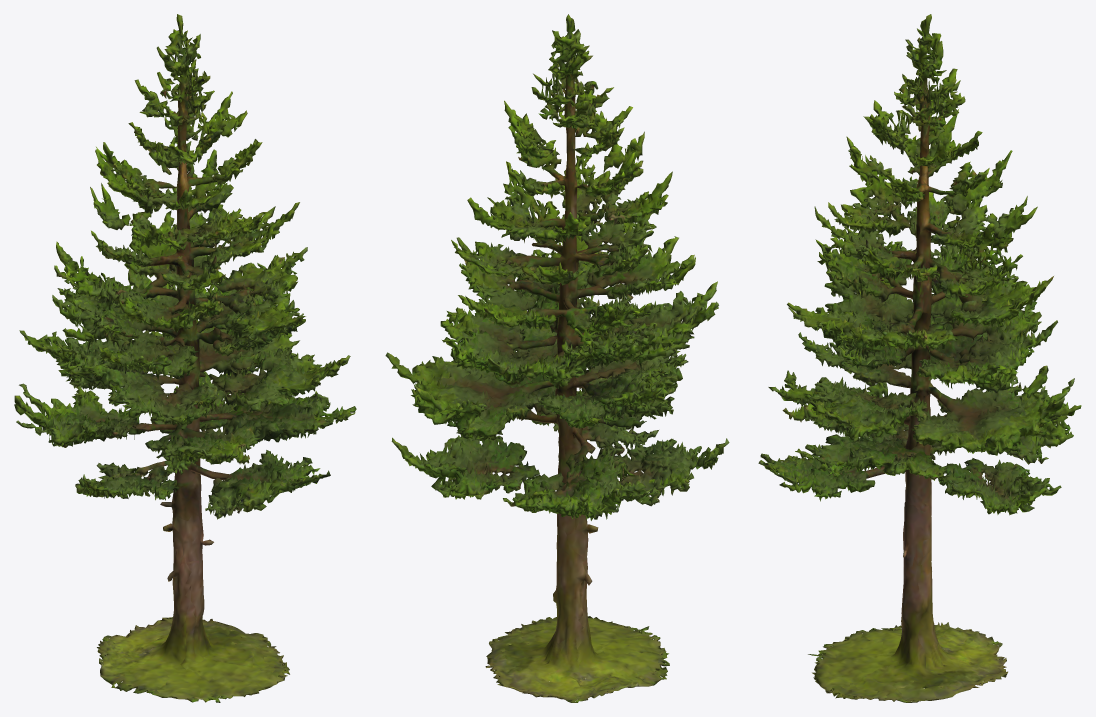
Rendered from Pine_tree.glb.
3 views of the same model, side by side, from view 1: azimuth 30°, elevation 25°; view 2: azimuth 150°, elevation 25°; view 3: azimuth 270°, elevation 25° (orthographic).
Parts seen in each view (by area): view 1: Mesh_0; view 2: Mesh_0; view 3: Mesh_0.
Part boxes in pixels (x1,y1,x2,y2): Mesh_0: [14, 14, 356, 702]; Mesh_0: [385, 14, 729, 702]; Mesh_0: [758, 14, 1081, 702].
Bounding box in the file's own units: 1.34 × 3 × 1.34.
1 material, 1 textured.
